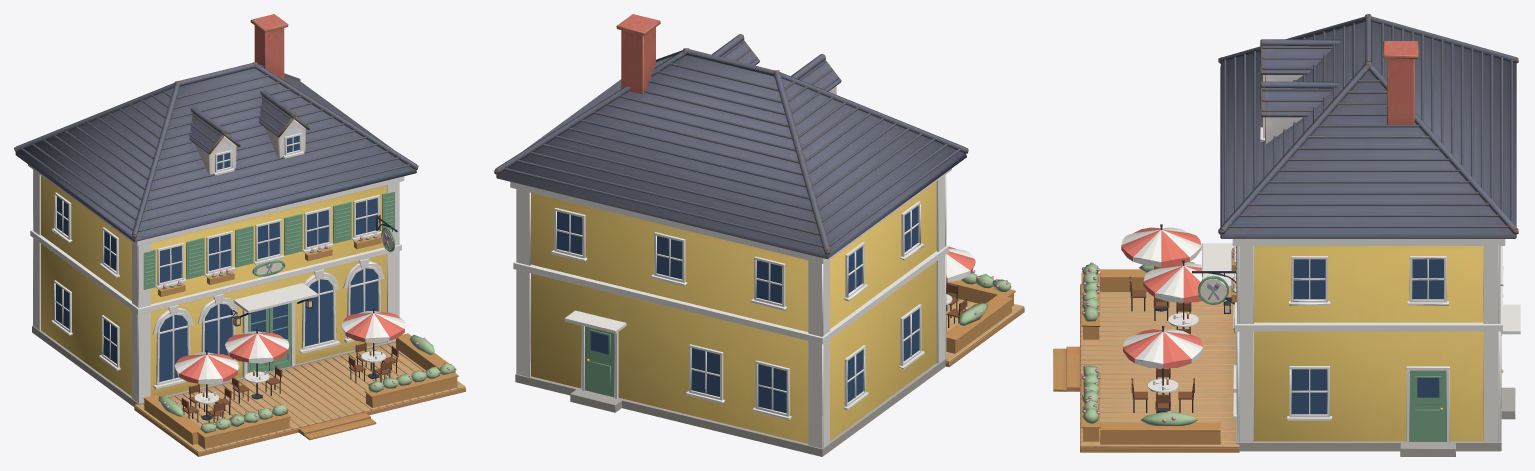
Rendered from restaurant-FDI4SKMC.glb.
3 views of the same model, side by side, from view 1: azimuth 30°, elevation 25°; view 2: azimuth 150°, elevation 25°; view 3: azimuth 270°, elevation 25° (orthographic). The views are drawn at different scales.
Parts seen in each view (by area): view 1: restaurant_body, restaurant_details, restaurant_furniture, restaurant_plants, restaurant_door_right, restaurant_door_left; view 2: restaurant_body, restaurant_details, restaurant_furniture, restaurant_plants; view 3: restaurant_body, restaurant_details, restaurant_furniture, restaurant_plants.
Boxes of the visible parts, box(x1,y1,x2,y2) form: restaurant_body: box(14, 14, 465, 456); restaurant_details: box(28, 133, 458, 448); restaurant_furniture: box(174, 308, 405, 422); restaurant_plants: box(158, 335, 454, 433); restaurant_door_right: box(269, 303, 290, 371); restaurant_door_left: box(248, 308, 268, 372); restaurant_body: box(494, 14, 1024, 443); restaurant_details: box(510, 168, 1015, 456); restaurant_furniture: box(946, 246, 975, 327); restaurant_plants: box(958, 270, 1011, 325); restaurant_body: box(1053, 14, 1518, 452); restaurant_details: box(1081, 75, 1520, 456); restaurant_furniture: box(1121, 224, 1203, 413); restaurant_plants: box(1082, 261, 1197, 425).
Bounding box in the file's own units: 11.1 × 10.84 × 12.62.
21 materials, 1 textured.
